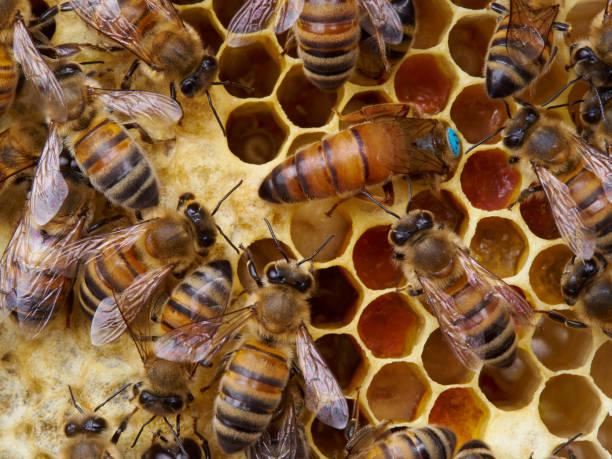Queen-Bee: (258, 104, 461, 202)
worker-bee: (155, 220, 347, 454), (388, 209, 531, 369), (42, 63, 181, 210), (0, 124, 94, 338), (502, 101, 611, 258), (76, 193, 216, 315), (138, 359, 192, 415)
